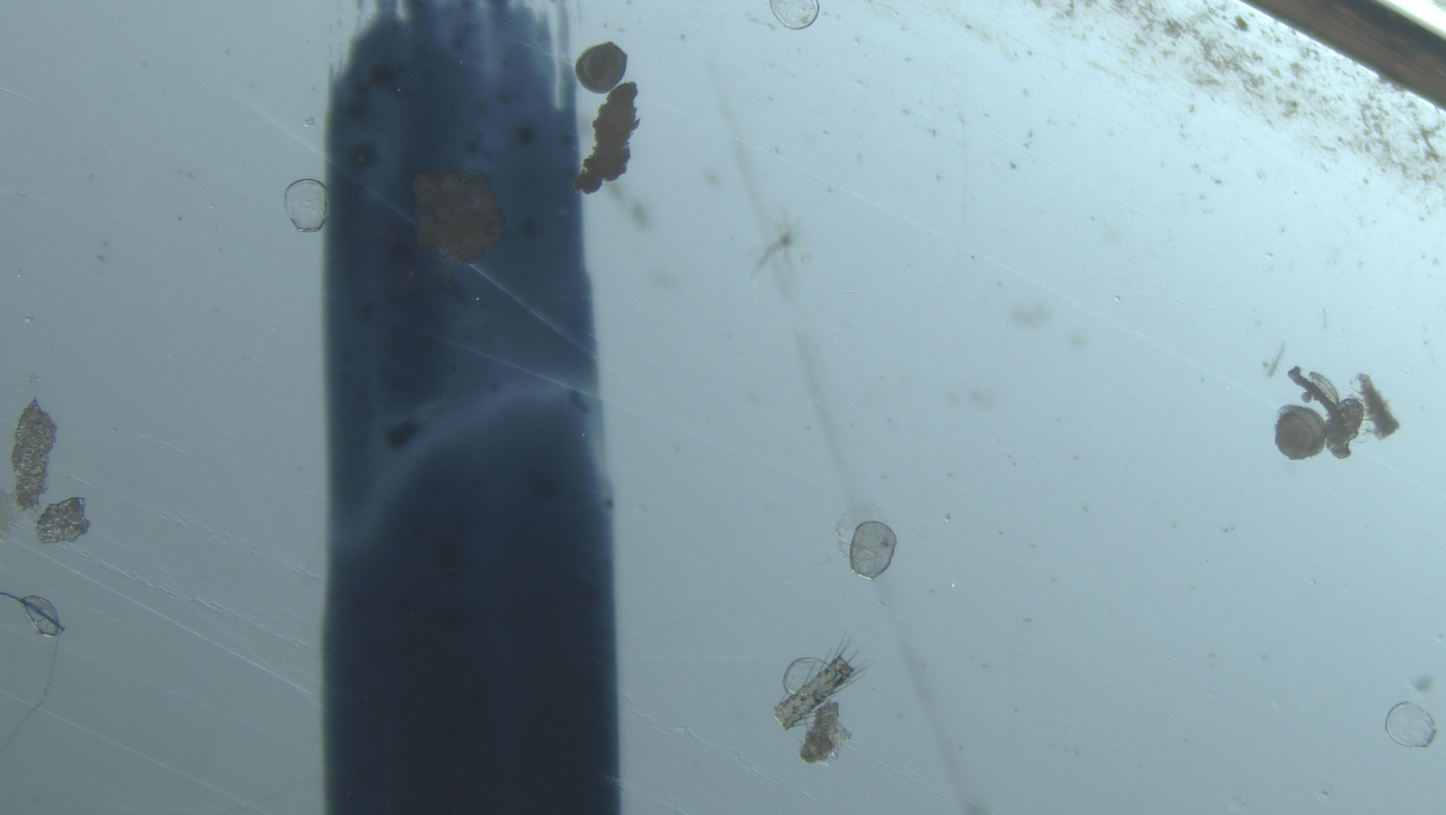dead: (849, 522, 896, 579), (285, 179, 328, 233), (1386, 702, 1436, 747), (19, 597, 65, 636), (770, 0, 820, 30), (782, 658, 821, 689)
live: (1276, 405, 1327, 459)
